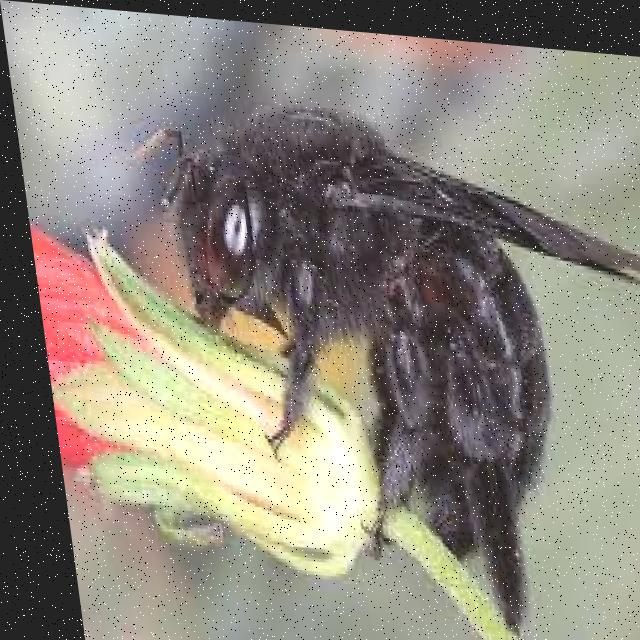Braunsapis: (149, 87, 631, 602)
